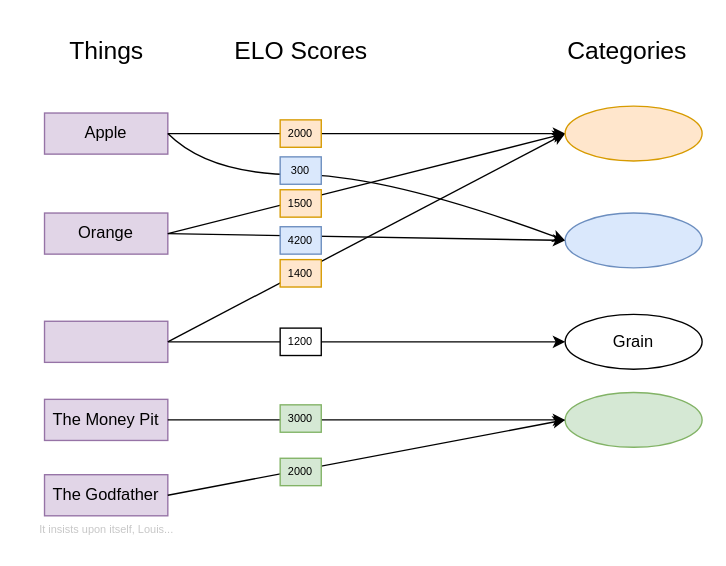
The diagram is 726 pixels wide and 566 high, and some of its shapes have lost their labels. Each missing label, with the centre of its shape:
Food: point 633,133
Fruit: point 633,240
Movie: point 633,419
Rice: point 105,341
